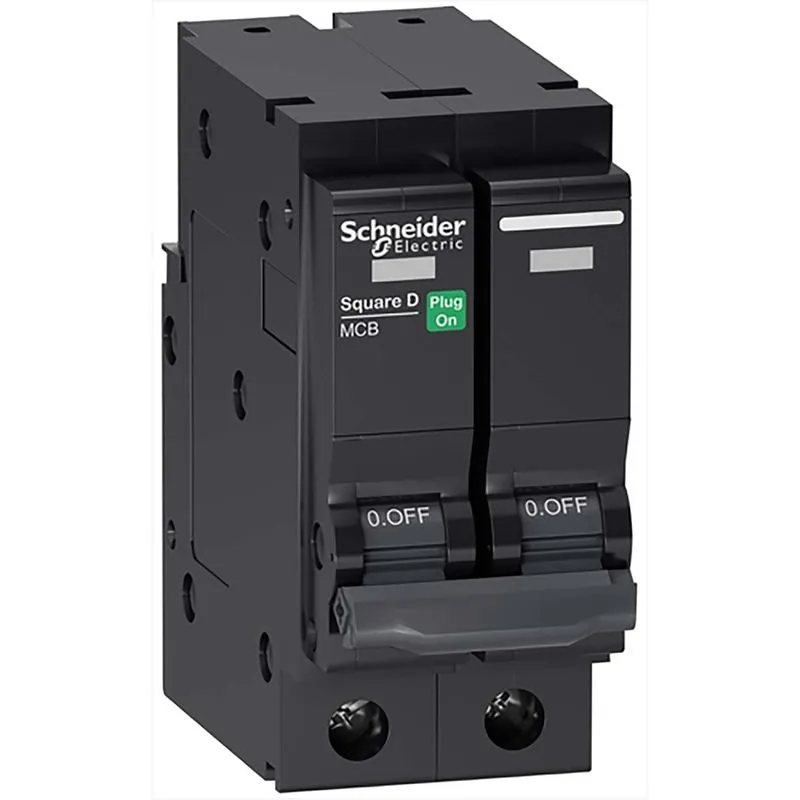BREACKER: (155, 4, 641, 797)
